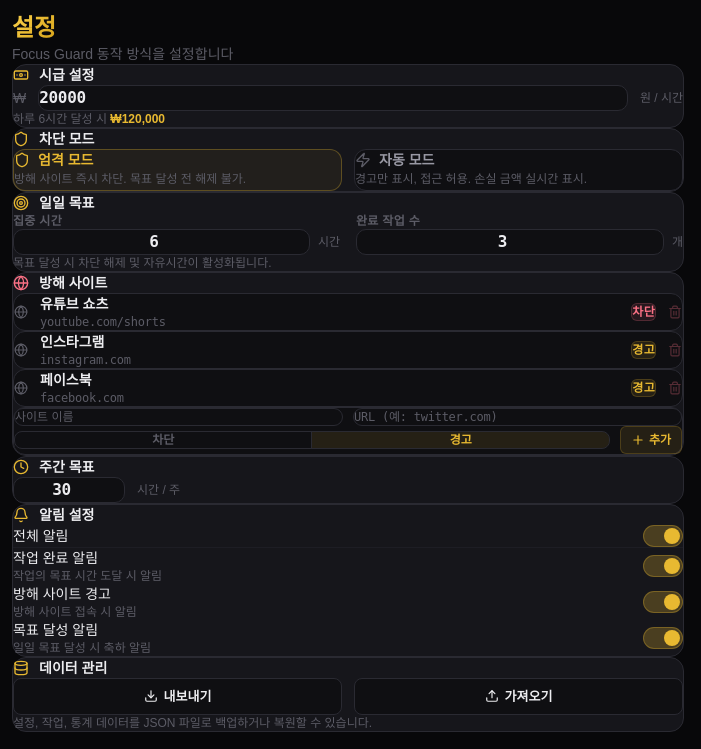
Settings › 방해사이트 삭제 → 목록에서 제거
The image size is (701, 749).
Expected: the text "유튜브 쇼츠" is shown, left=40, top=296, right=108, bottom=312
// 유튜브 쇼츠 삭제 버튼 클릭
Click the button named "유튜브 쇼츠 삭제" at (675, 312), box left=668, top=304, right=682, bottom=318
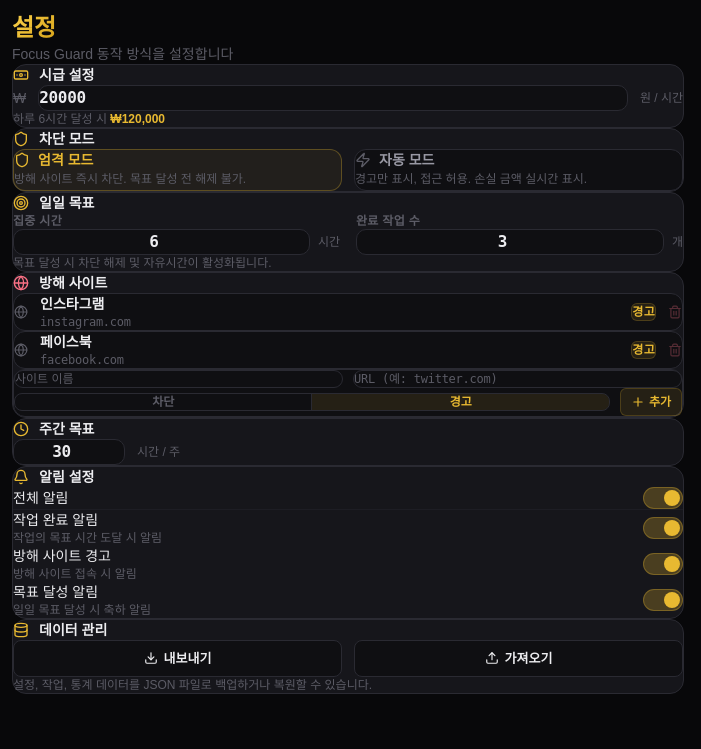
Result: the text "유튜브 쇼츠" is gone
